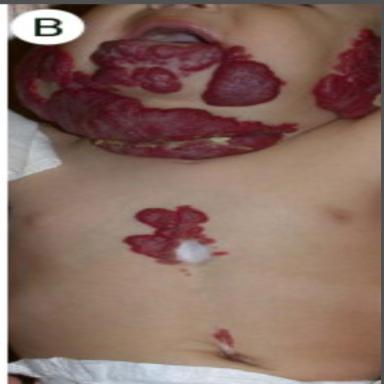Hemangiome: (18, 39, 296, 160), (313, 29, 380, 118), (123, 205, 215, 264)
